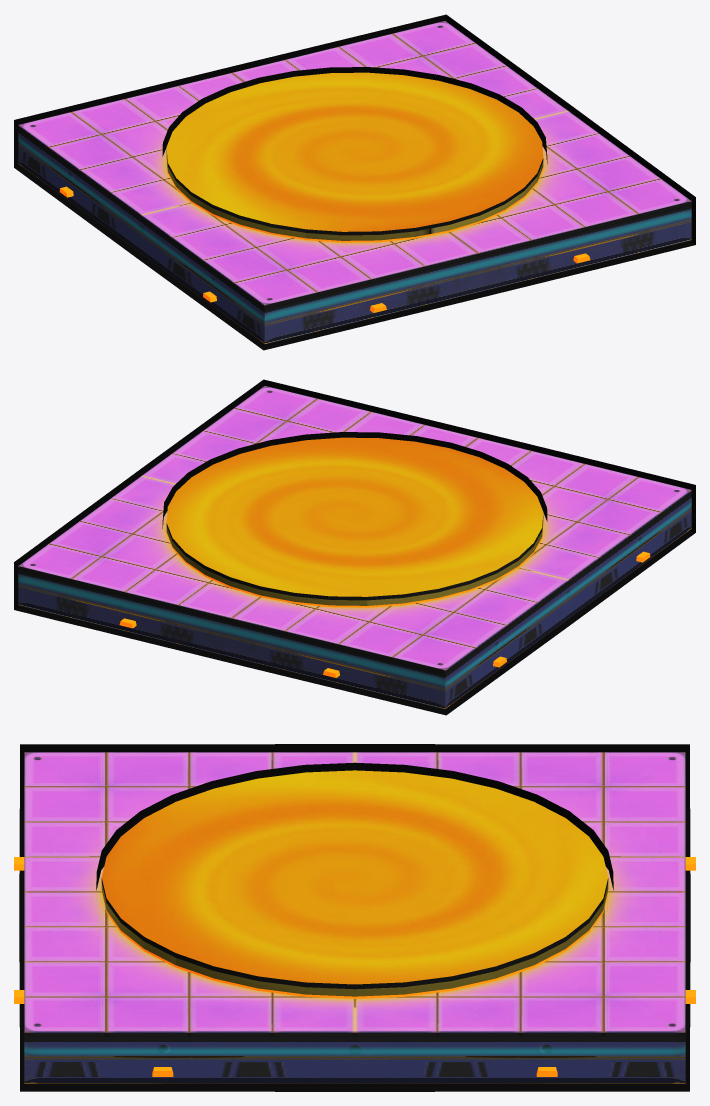
File: squarePlatformAnime.glb
3 views of the same model, one above another, from view 1: azimuth 30°, elevation 25°; view 2: azimuth 150°, elevation 25°; view 3: azimuth 270°, elevation 25° (orthographic). The views are drawn at different scales.
Visible parts, largest first — view 1: squarePlatform; view 2: squarePlatform; view 3: squarePlatform.
Part boxes in pixels (left/top/right/bottom): squarePlatform: left=14, top=14, right=695, bottom=350; squarePlatform: left=14, top=379, right=695, bottom=715; squarePlatform: left=14, top=744, right=695, bottom=1091.
Size of what is drawn, in the model's own units: 6.11 by 0.7748 by 6.12.
3 materials, 1 textured.
